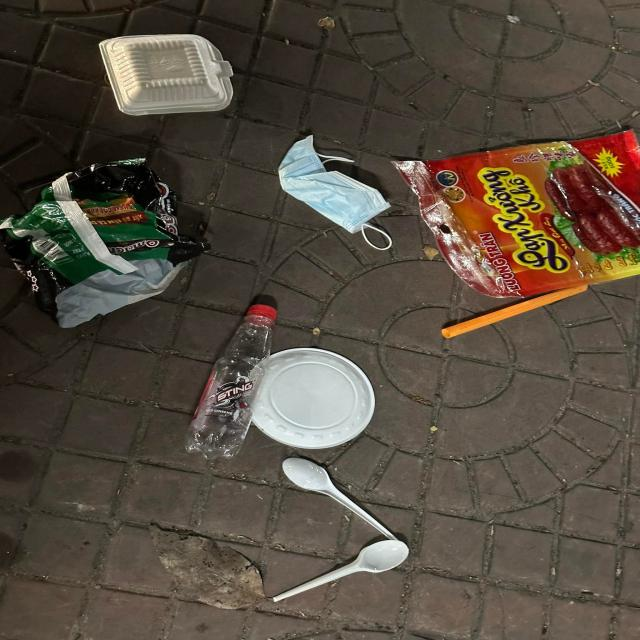bottle: (184, 304, 276, 460)
drinking straw: (440, 284, 588, 338)
foam box: (102, 34, 235, 116)
mask: (277, 134, 393, 252)
plastic holder: (244, 348, 376, 448)
plastic utensil: (282, 457, 397, 540), (272, 540, 410, 602)
snack package: (393, 129, 640, 298), (0, 156, 213, 328)
